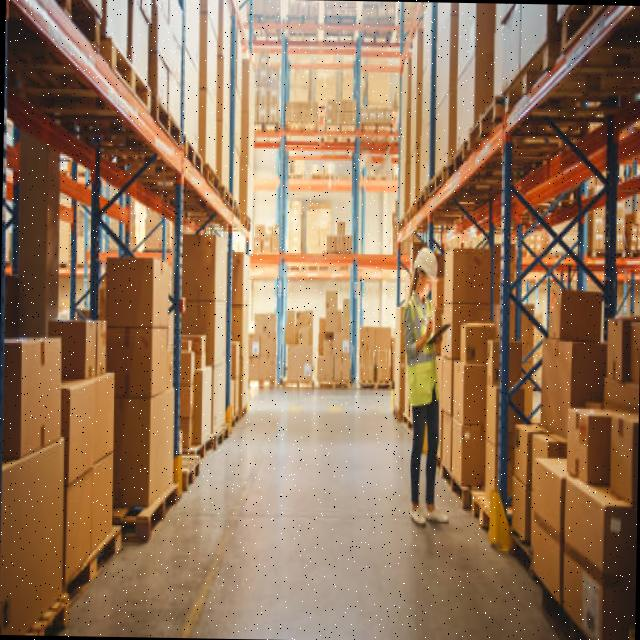Wooden-Pallets: (464, 92, 496, 163), (146, 481, 178, 539), (186, 435, 214, 497), (468, 476, 494, 540)
